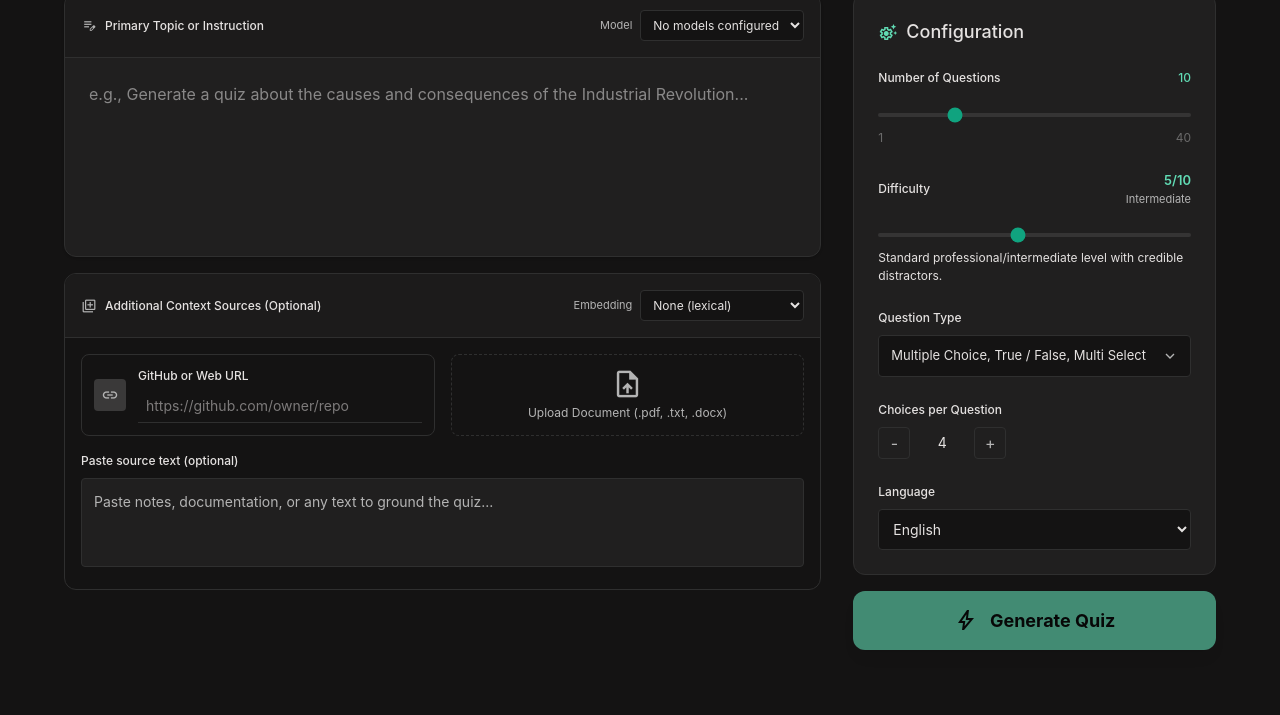
Test case: CreateQuizPage difficulty control › shows an API error when quiz generation fails
(page scrolled)
Replace the text in the text box with placeholder "Generate a quiz about" with "Build a Linux quiz". click: point(443, 154)
box: [65, 58, 820, 250]
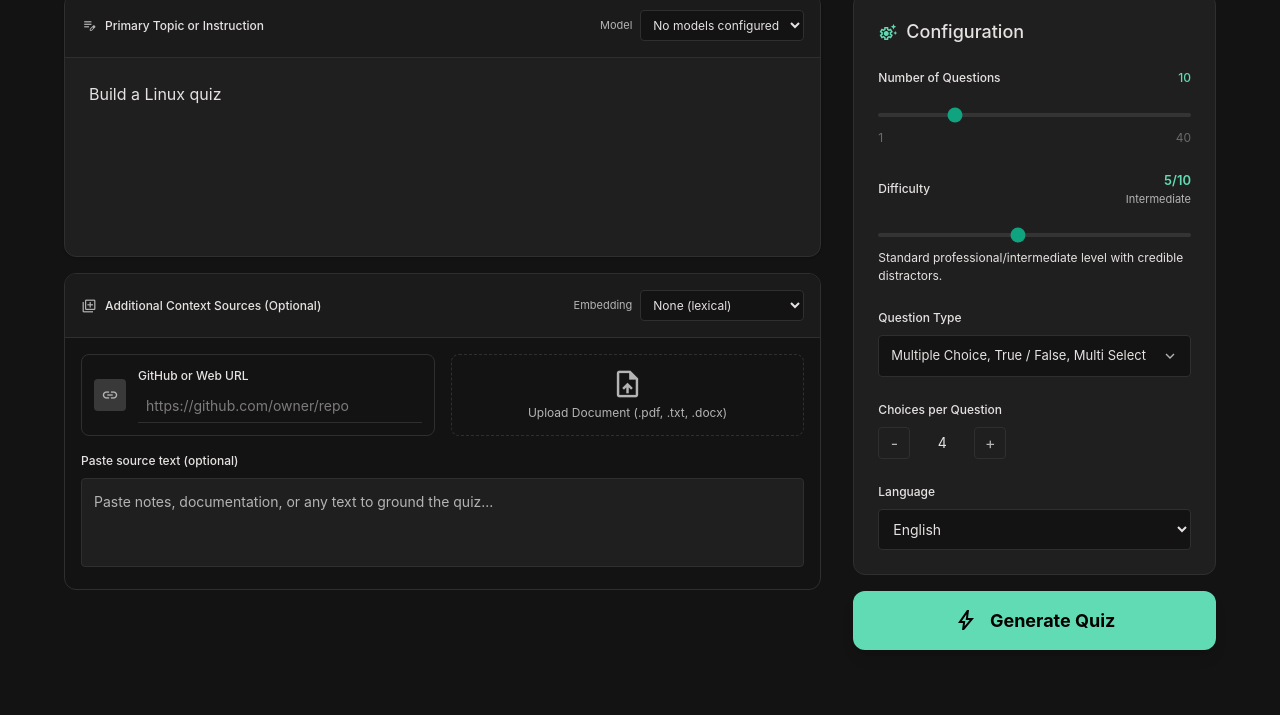
Click the button "Generate Quiz". click: point(1035, 620)
box: [853, 590, 1216, 650]
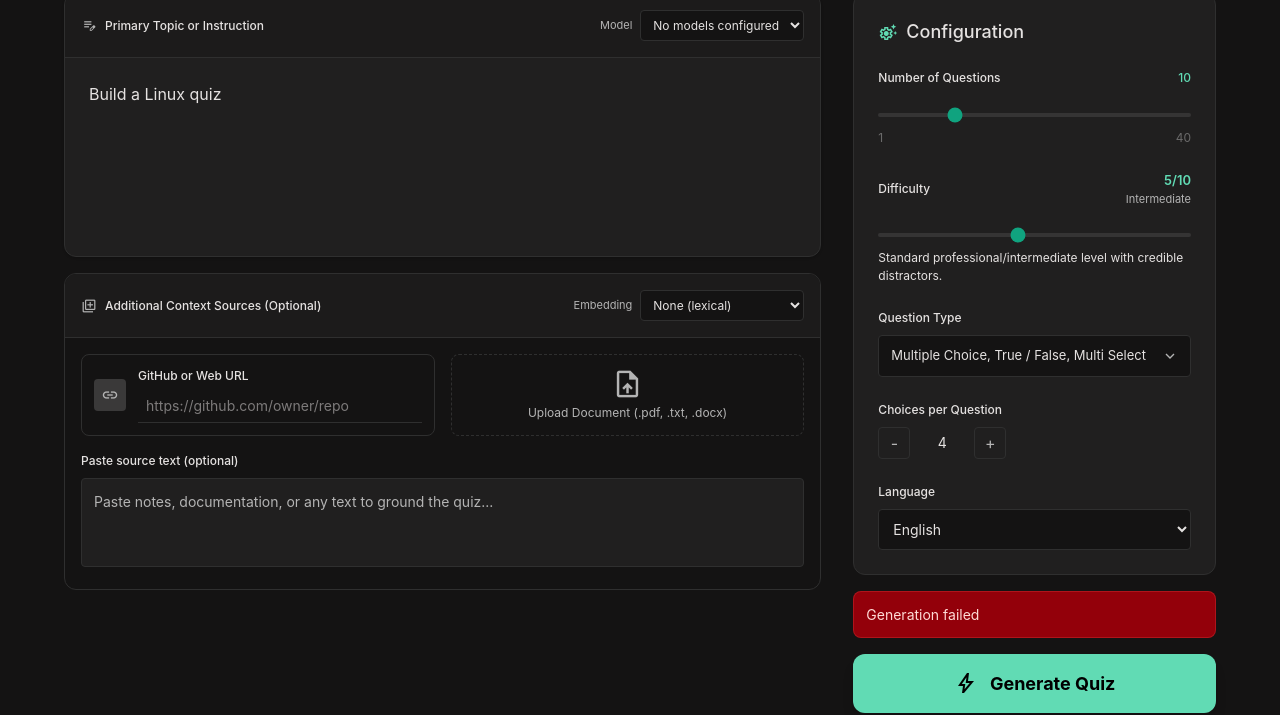
Now the text "Generation failed" is shown, box [853, 590, 1216, 638]
